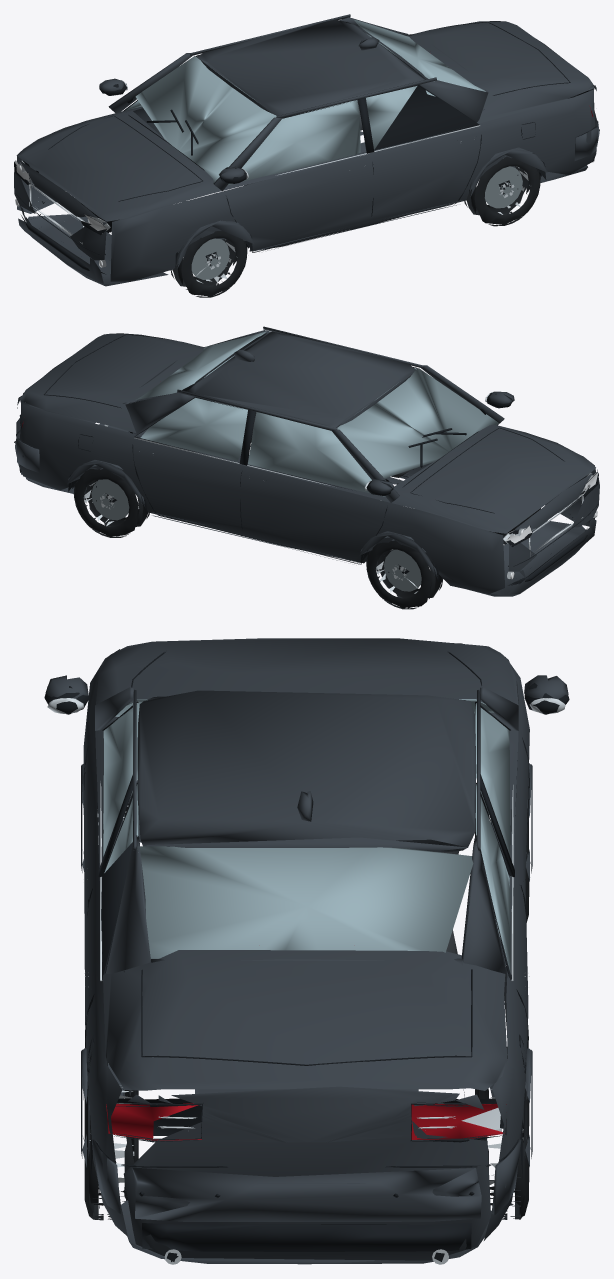
The model's file is graphite-sedan.obj.
3 views of the same model, one above another, from view 1: azimuth 30°, elevation 25°; view 2: azimuth 150°, elevation 25°; view 3: azimuth 270°, elevation 25° (orthographic). The views are drawn at different scales.
Visible parts, largest first — view 1: paint, glass_001, black_001, rubber_001, steel_001, chrome; view 2: paint, glass_001, rubber_001, black_001, steel_001, chrome; view 3: paint, glass_001, black_001, redlens, rubber_001, chrome.
Boxes of the visible parts, box(x1,y1,x2,y2) form: paint: box(14, 14, 599, 286); glass_001: box(125, 19, 485, 185); black_001: box(14, 22, 599, 276); rubber_001: box(73, 156, 540, 297); steel_001: box(191, 166, 530, 279); chrome: box(18, 80, 528, 283); paint: box(15, 326, 599, 596); glass_001: box(136, 331, 498, 496); rubber_001: box(73, 468, 540, 609); black_001: box(14, 334, 598, 585); steel_001: box(83, 479, 421, 591); chrome: box(84, 392, 593, 593); paint: box(45, 638, 568, 1264); glass_001: box(103, 699, 510, 972); black_001: box(44, 651, 569, 1261); redlens: box(106, 1103, 506, 1140); rubber_001: box(84, 792, 529, 1220); chrome: box(47, 698, 565, 1264).
Bounding box in the file's own units: 4.84 × 1.54 × 2.18.
